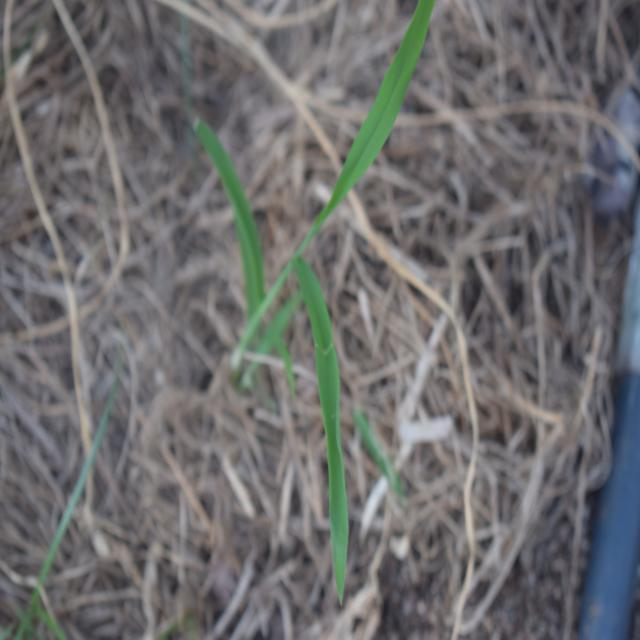crabgrass: (199, 0, 429, 553)
